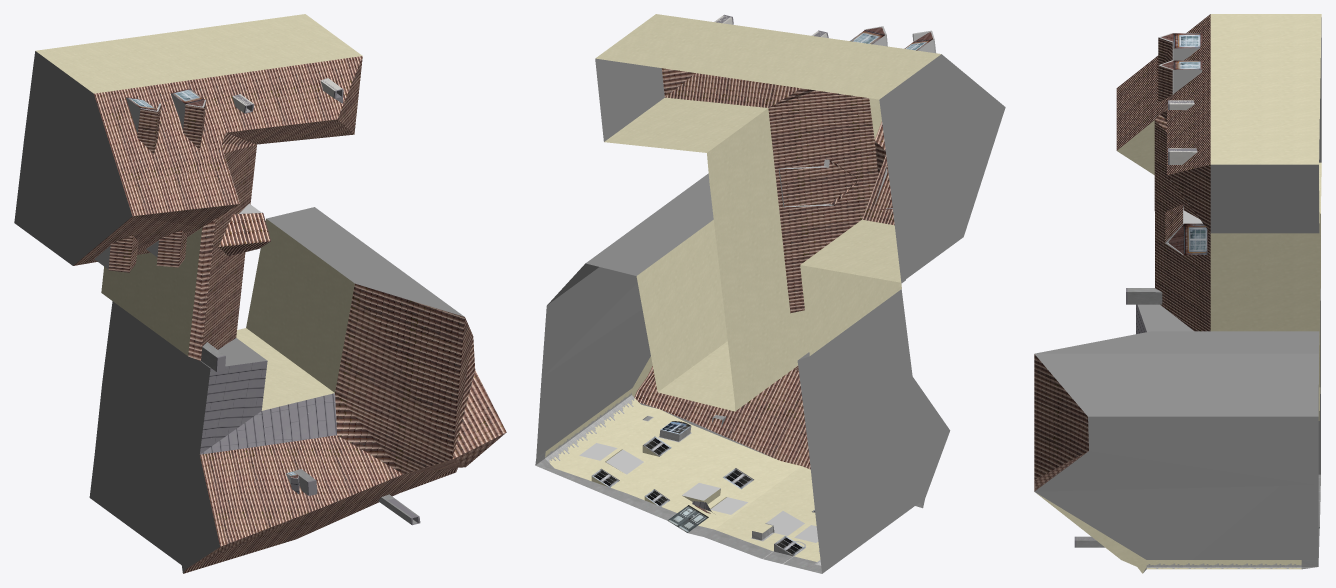
Rendered from Tolli_4_1-origo.obj.
The picture shows the model from 3 angles, left to right: view 1: azimuth 30°, elevation 25°; view 2: azimuth 150°, elevation 25°; view 3: azimuth 270°, elevation 25°; orthographic projection. The views are drawn at different scales.
Parts seen in each view (by area): view 1: Tolli_4_1; view 2: Tolli_4_1; view 3: Tolli_4_1.
Part boxes in pixels (left/top/right/bottom): Tolli_4_1: left=14, top=14, right=506, bottom=573; Tolli_4_1: left=535, top=14, right=1005, bottom=573; Tolli_4_1: left=1034, top=14, right=1321, bottom=573.
Bounding box in the file's own units: 26.06 × 33.5 × 19.74.
